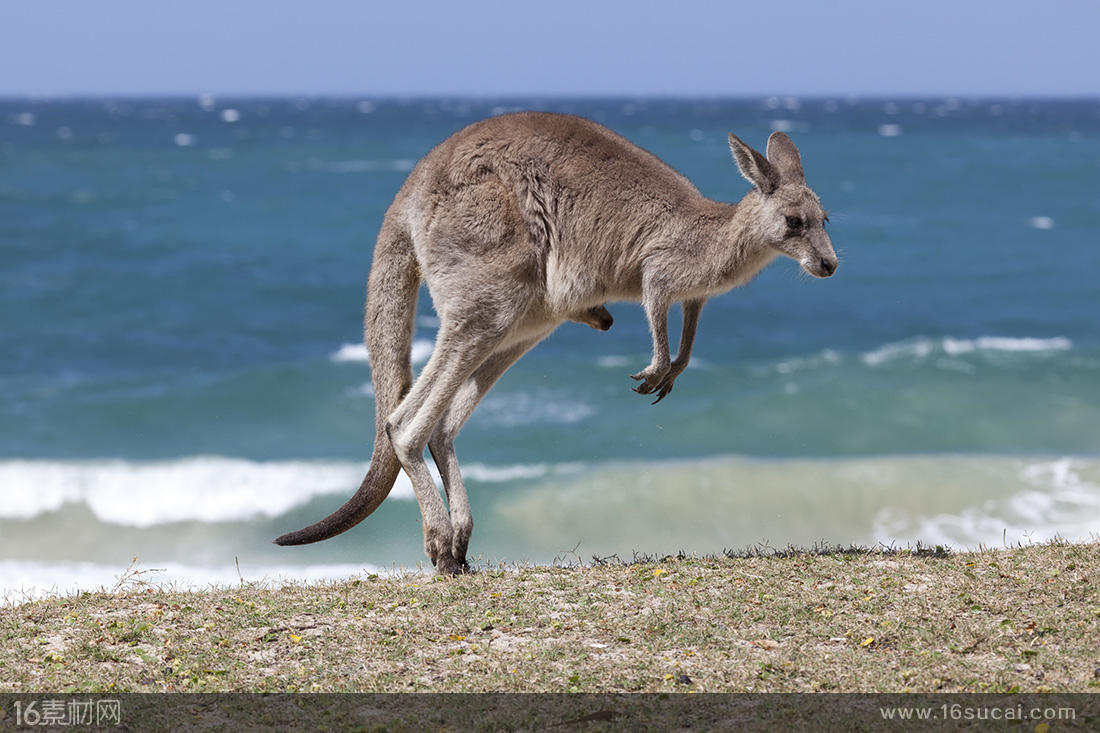kangaroo: (267, 95, 845, 584)
